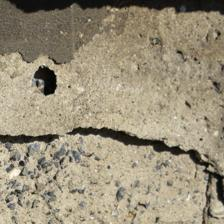Crack: (2, 126, 223, 183)
